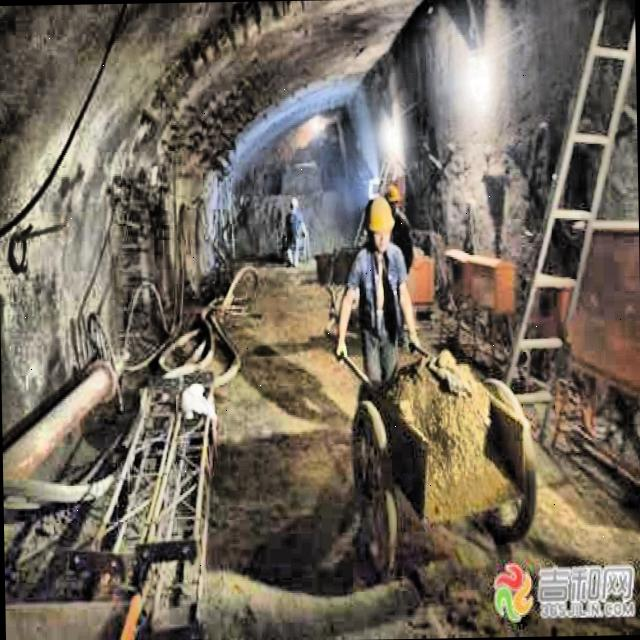helmet: (362, 191, 394, 253), (384, 180, 403, 210)
